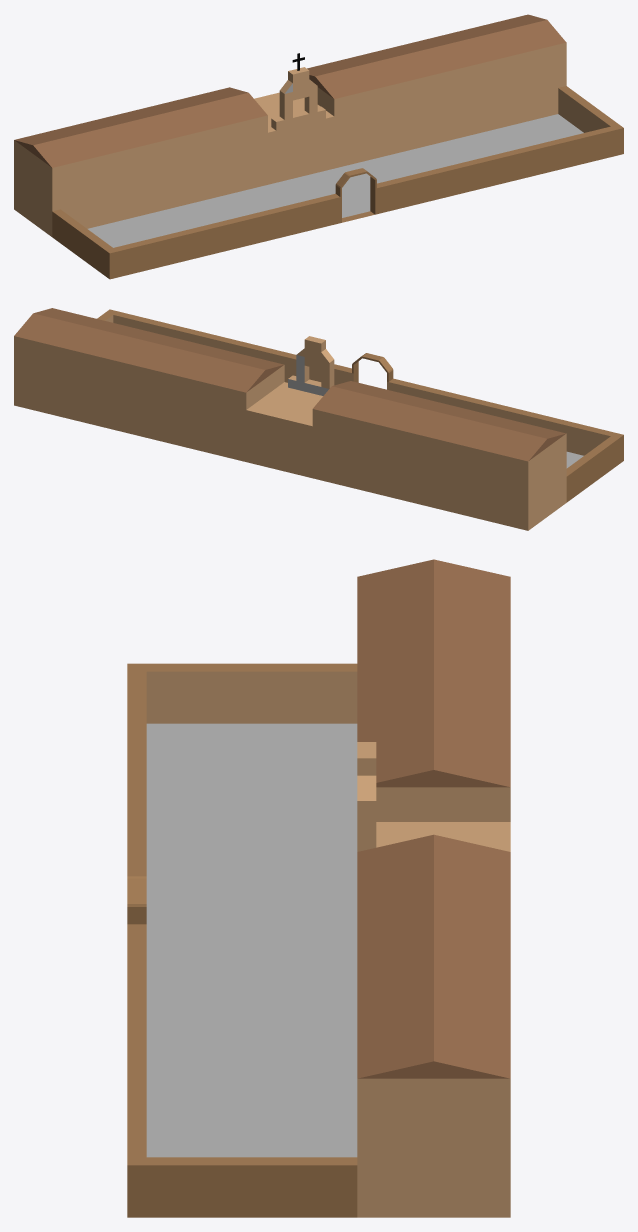
File: inmaculada.glb
3 views of the same model, one above another, from view 1: azimuth 30°, elevation 25°; view 2: azimuth 150°, elevation 25°; view 3: azimuth 270°, elevation 25° (orthographic). The views are drawn at different scales.
Parts seen in each view (by area): view 1: Plane; view 2: Plane; view 3: Plane.
Part boxes in pixels (x1,y1,x2,y2): Plane: (14, 14, 623, 279); Plane: (14, 308, 623, 530); Plane: (127, 559, 510, 1217).
Bounding box in the file's own units: 62 × 14.01 × 20.
